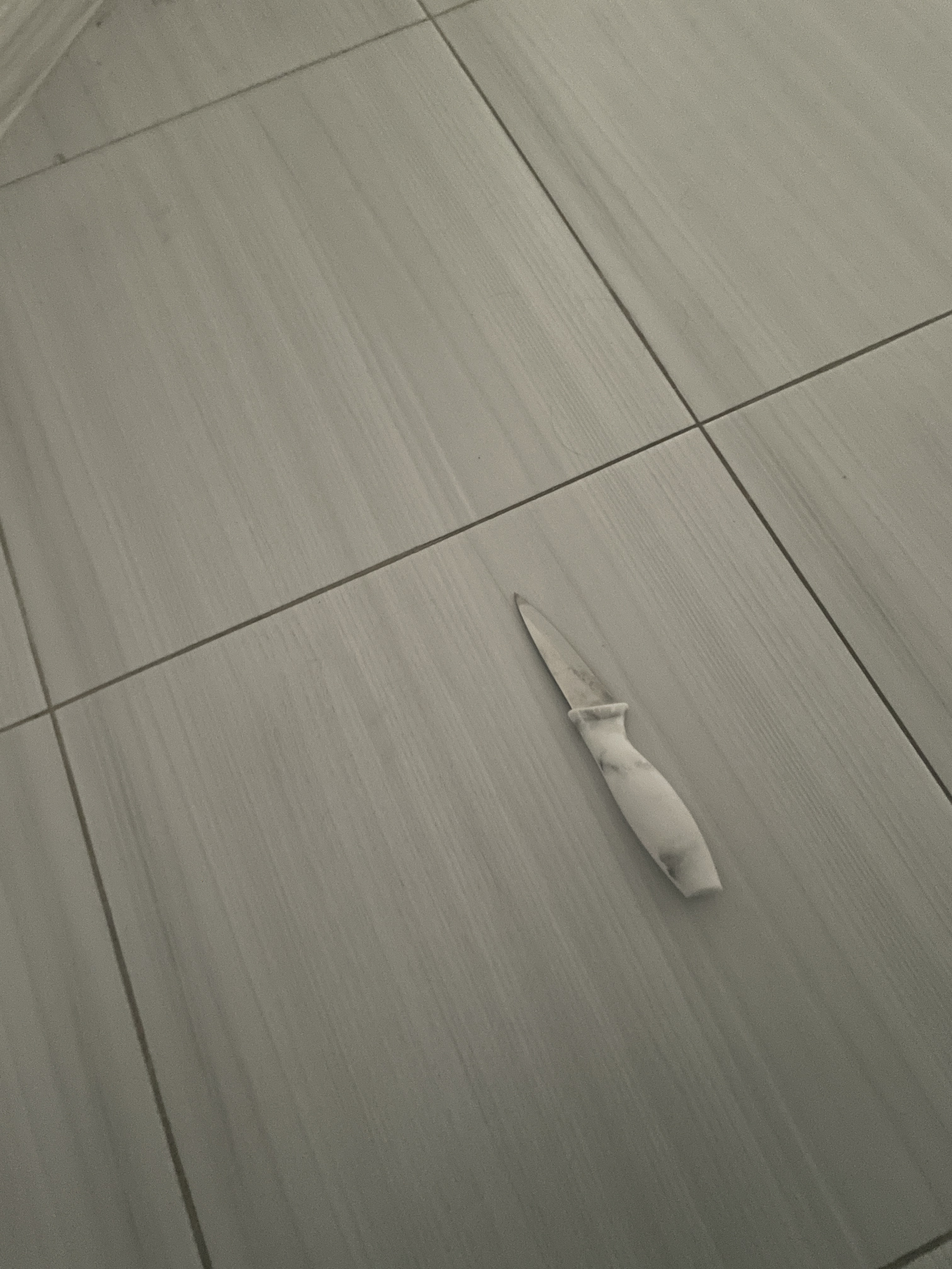knife: (515, 595, 722, 897)
